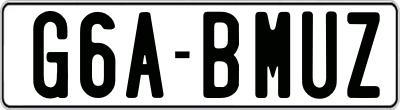6: (77, 10, 116, 102)
A: (124, 11, 167, 101)
B: (201, 11, 241, 101)
G: (33, 11, 73, 98)
M: (252, 11, 290, 102)
U: (302, 11, 338, 104)
Z: (346, 9, 379, 100)
